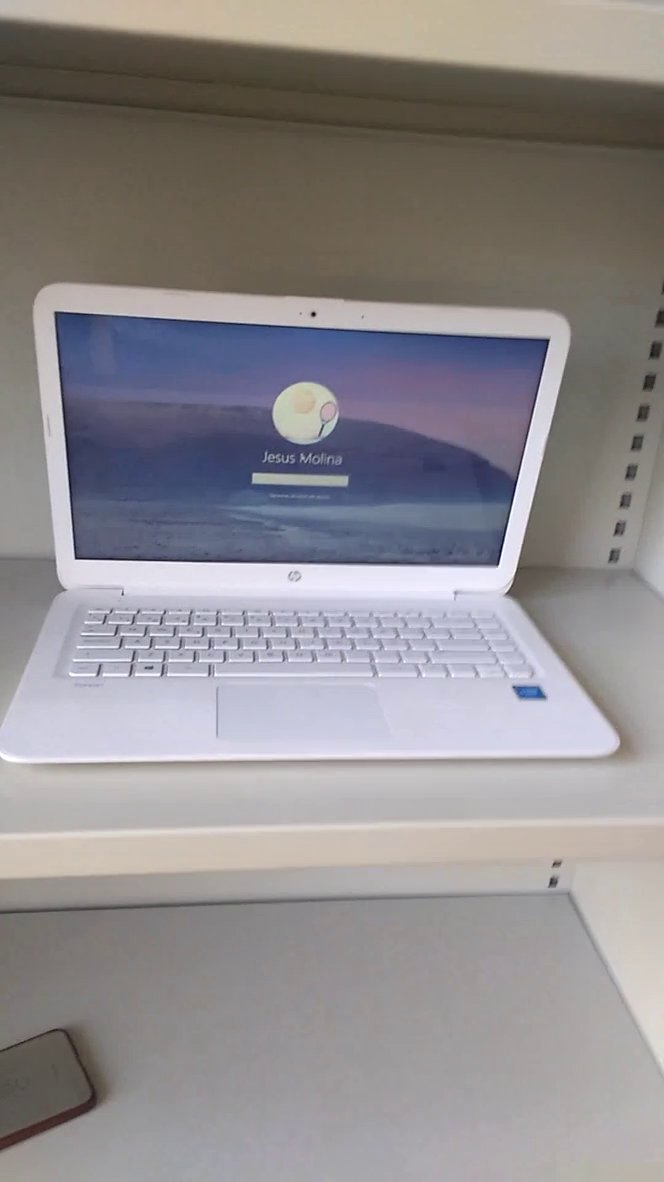laptop: (2, 262, 640, 790)
